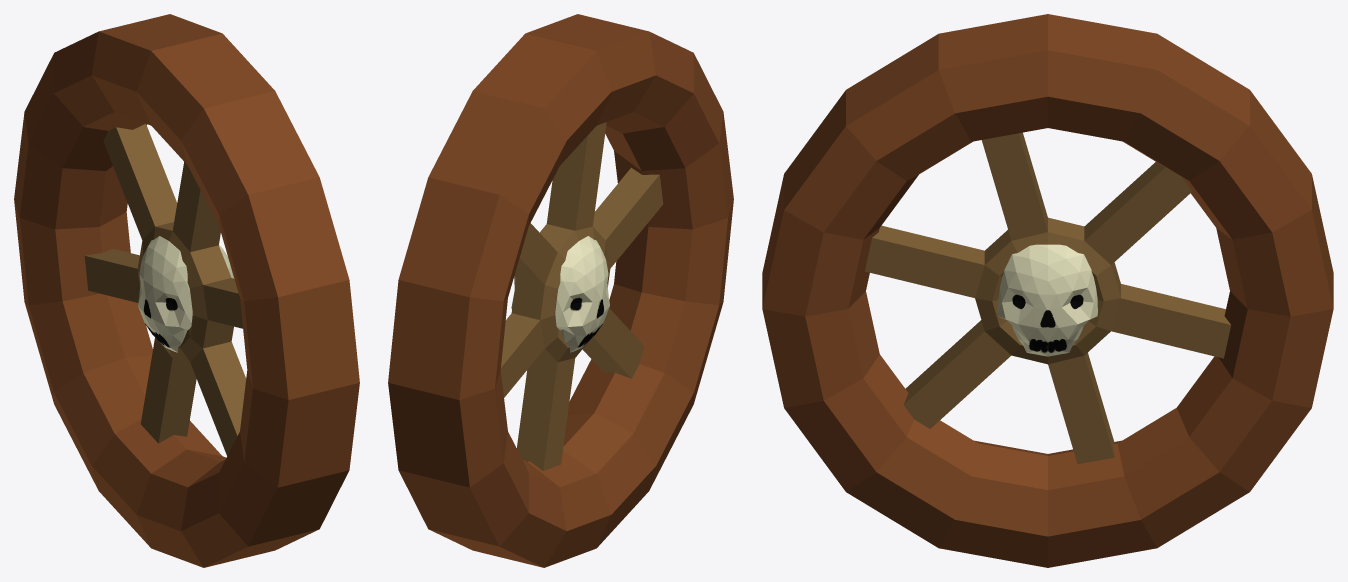
Rendered from wheel.glb.
3 renders of one model, left to right at view 1: azimuth 30°, elevation 25°; view 2: azimuth 150°, elevation 25°; view 3: azimuth 270°, elevation 25°, orthographic. The views are drawn at different scales.
Parts seen in each view (by area): view 1: Torus, Torus.002, Icosphere; view 2: Torus, Torus.002, Icosphere; view 3: Torus, Torus.002, Icosphere.
Part boxes in pixels (x1=…): Torus: x1=14, y1=14, x2=359, y2=567; Torus.002: x1=84, y1=124, x2=246, y2=455; Icosphere: x1=138, y1=236, x2=233, y2=352; Torus: x1=388, y1=14, x2=733, y2=567; Torus.002: x1=500, y1=122, x2=663, y2=470; Icosphere: x1=511, y1=236, x2=609, y2=352; Torus: x1=762, y1=14, x2=1333, y2=567; Torus.002: x1=865, y1=132, x2=1231, y2=464; Icosphere: x1=998, y1=244, x2=1097, y2=356.
Bounding box in the file's own units: 0.5 × 2.35 × 2.35.
Materials: 3 (1 with a texture image).
